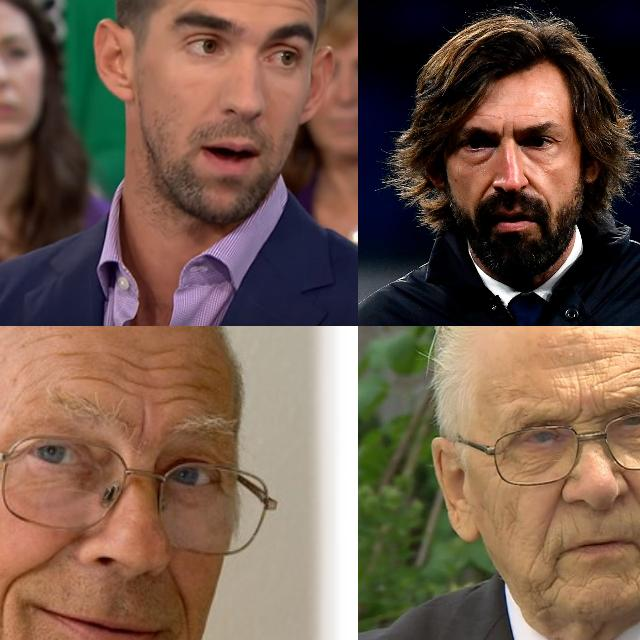crows_feet: (494, 439, 514, 465)
forehead: (168, 355, 212, 409), (106, 344, 152, 378), (44, 336, 92, 368), (118, 374, 162, 408), (63, 364, 109, 392), (510, 389, 554, 406), (594, 330, 638, 346), (569, 350, 607, 368), (269, 0, 312, 13), (609, 344, 640, 360), (609, 380, 640, 395), (572, 374, 588, 402), (616, 361, 640, 377), (517, 111, 543, 119), (472, 112, 498, 120)
frown_line: (129, 402, 151, 448), (572, 408, 606, 427), (501, 124, 517, 138)
gummy_smile: (162, 571, 196, 625), (1, 555, 47, 593), (544, 492, 566, 536), (625, 476, 640, 516), (0, 595, 13, 636), (522, 173, 542, 193), (478, 178, 494, 196)
masseter: (524, 546, 542, 576), (503, 499, 521, 528)
sad_smile: (545, 556, 563, 590), (632, 543, 640, 577)
